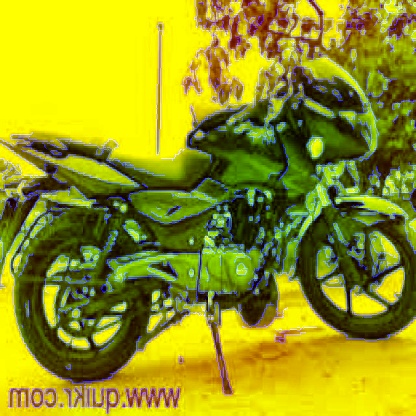bike: (10, 54, 408, 377)
